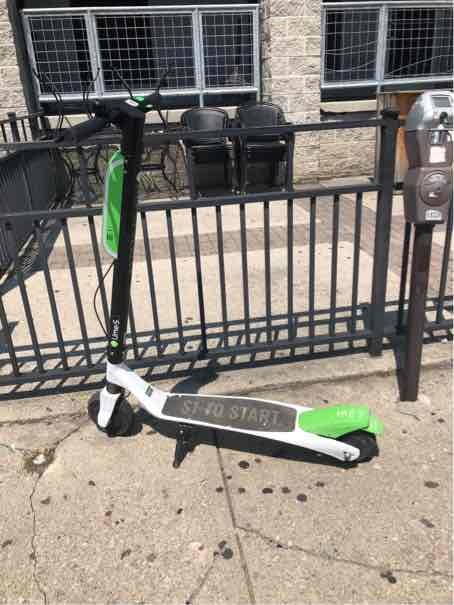scooter: (45, 78, 385, 475)
